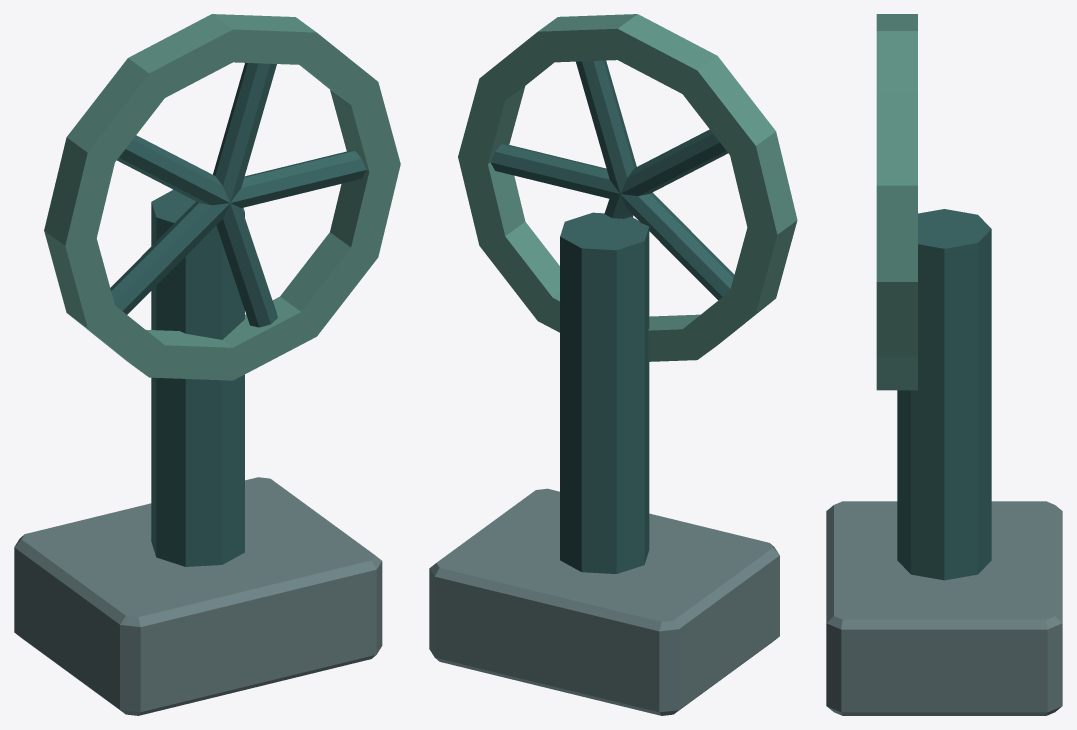
The model's file is valve.glb.
The picture shows the model from 3 angles, left to right: view 1: azimuth 30°, elevation 25°; view 2: azimuth 150°, elevation 25°; view 3: azimuth 270°, elevation 25°; orthographic projection. The views are drawn at different scales.
Visible parts, largest first — view 1: valve__body; view 2: valve__body; view 3: valve__body.
Boxes of the visible parts, box(x1,y1,x2,y2) form: valve__body: box(14, 14, 400, 715); valve__body: box(429, 14, 797, 715); valve__body: box(826, 14, 1062, 715).
Bounding box in the file's own units: 0.64 × 1.17 × 0.4.
